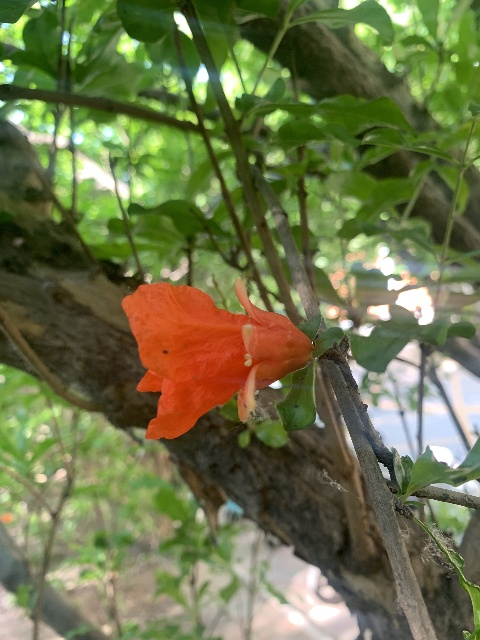flower: (122, 276, 312, 439)
